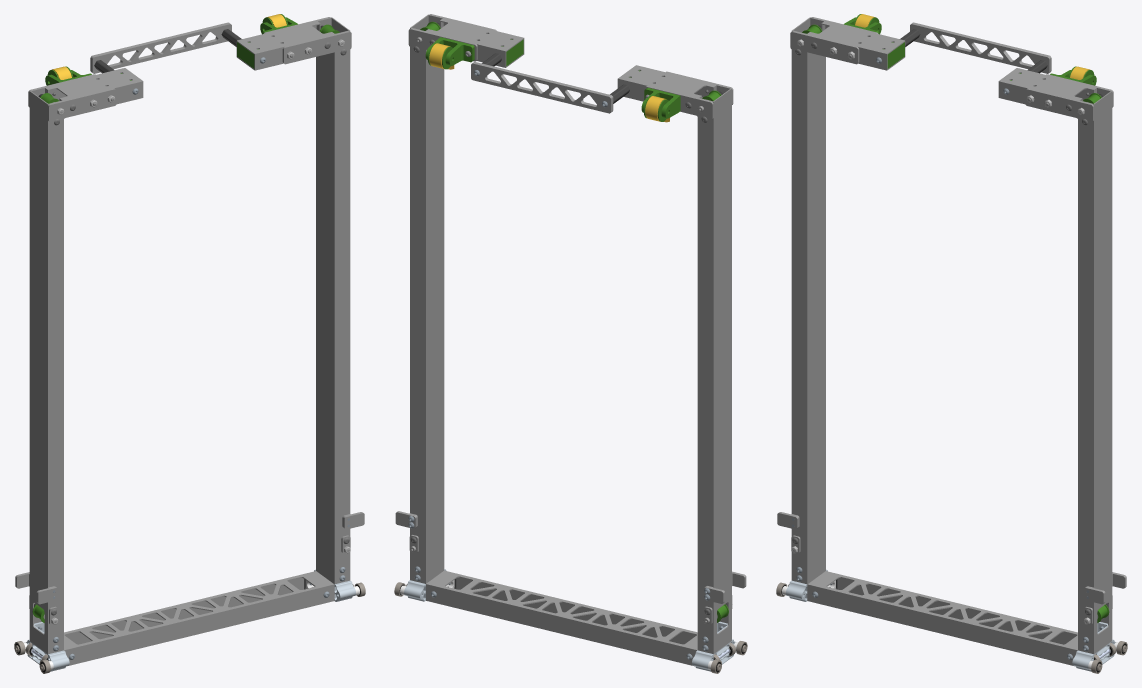
3 renders of one model, left to right at view 1: azimuth 30°, elevation 25°; view 2: azimuth 150°, elevation 25°; view 3: azimuth 330°, elevation 25°, orthographic.
Parts seen in each view (by area): view 1: Tube 2"x1"x33" (×2), Tube 2"x1"x17", Tube 2"x1"x5" (×2), Part 81, Part 20, Part 19, WCP-0199-001 Rev2; view 2: Tube 2"x1"x33" (×2), Tube 2"x1"x17", Tube 2"x1"x5" (×2), Part 81, Part 4 (×2), Part 21, Part 22, WCP-0199-001 Rev2; view 3: Tube 2"x1"x33" (×2), Tube 2"x1"x17", Tube 2"x1"x5" (×2), Part 81, Part 19, Part 20, WCP-0199-001 Rev2.
Part boxes in pixels (x1,y1,x2,y2): Tube 2"x1"x33" (×2): (29,17,350,654); Tube 2"x1"x17": (64,571,334,666); Tube 2"x1"x5" (×2): (46,21,333,104); Part 81: (90,22,231,73); Part 20: (282,31,351,64); Part 19: (48,88,116,124); WCP-0199-001 Rev2: (25,622,69,671); Tube 2"x1"x33" (×2): (410,14,731,653); Tube 2"x1"x17": (426,570,697,666); Tube 2"x1"x5" (×2): (426,18,715,101); Part 81: (471,62,613,113); Part 4 (×2): (425,37,680,118); Part 21: (644,86,713,121); Part 22: (408,28,477,61); WCP-0199-001 Rev2: (692,621,735,671); Tube 2"x1"x33" (×2): (791,17,1112,654); Tube 2"x1"x17": (807,571,1077,666); Tube 2"x1"x5" (×2): (808,21,1095,104); Part 81: (910,22,1051,73); Part 19: (790,31,859,64); Part 20: (1025,88,1093,124); WCP-0199-001 Rev2: (1072,622,1116,671).
Bounding box in the file's own units: 0.5207 × 0.8672 × 0.1296.
